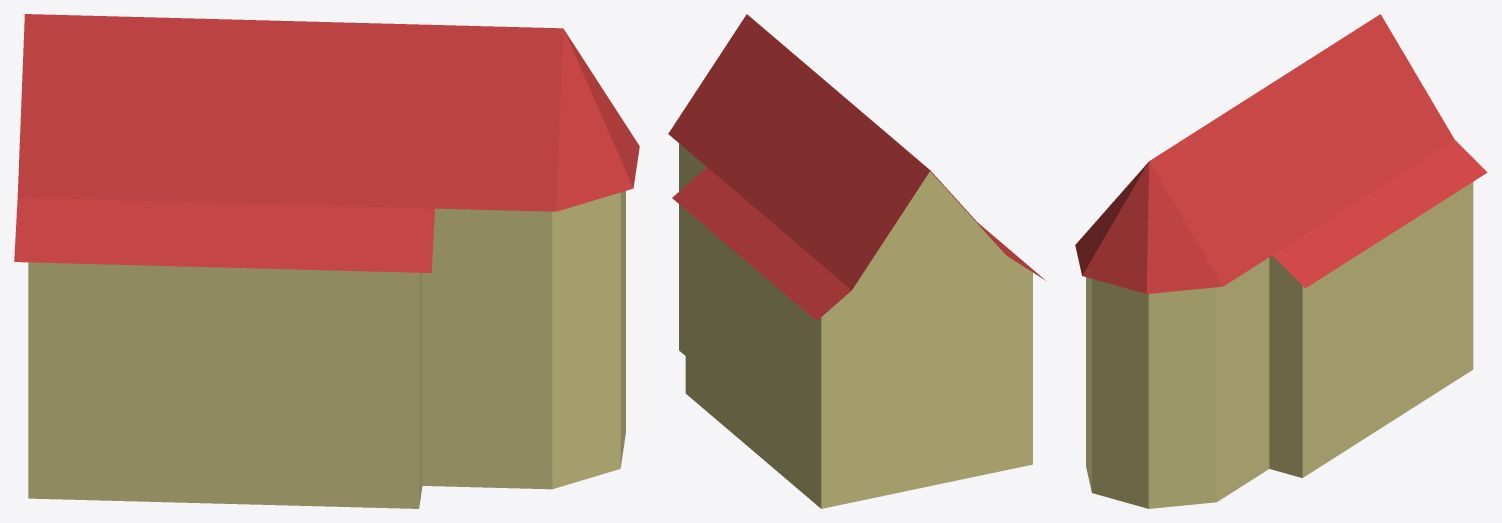
The picture shows the model from 3 angles, left to right: view 1: azimuth 30°, elevation 25°; view 2: azimuth 150°, elevation 25°; view 3: azimuth 270°, elevation 25°; orthographic projection. The views are drawn at different scales.
Size of the model in its own units: 23.57 by 19.93 by 17.28.
